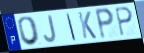I: (66, 13, 77, 42)
J: (43, 14, 57, 44)
K: (77, 11, 98, 40)
O: (17, 15, 42, 47)
P: (94, 7, 115, 41), (114, 7, 134, 38)
